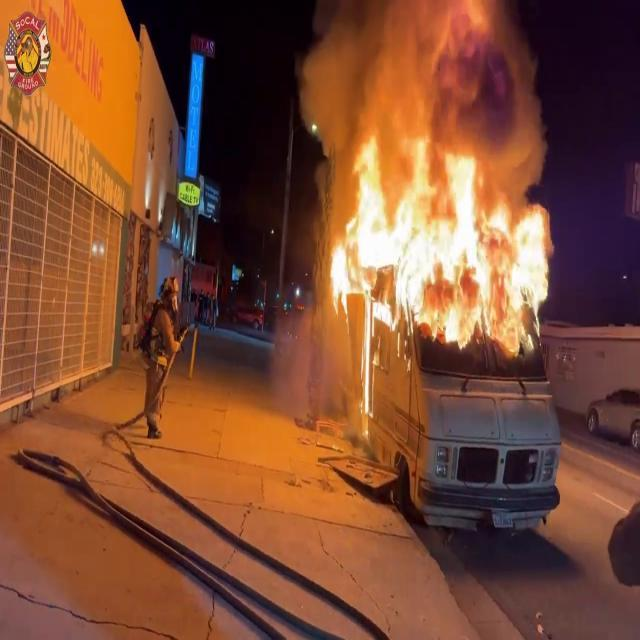Fire: (322, 103, 560, 357)
Smoke: (300, 0, 554, 150)
